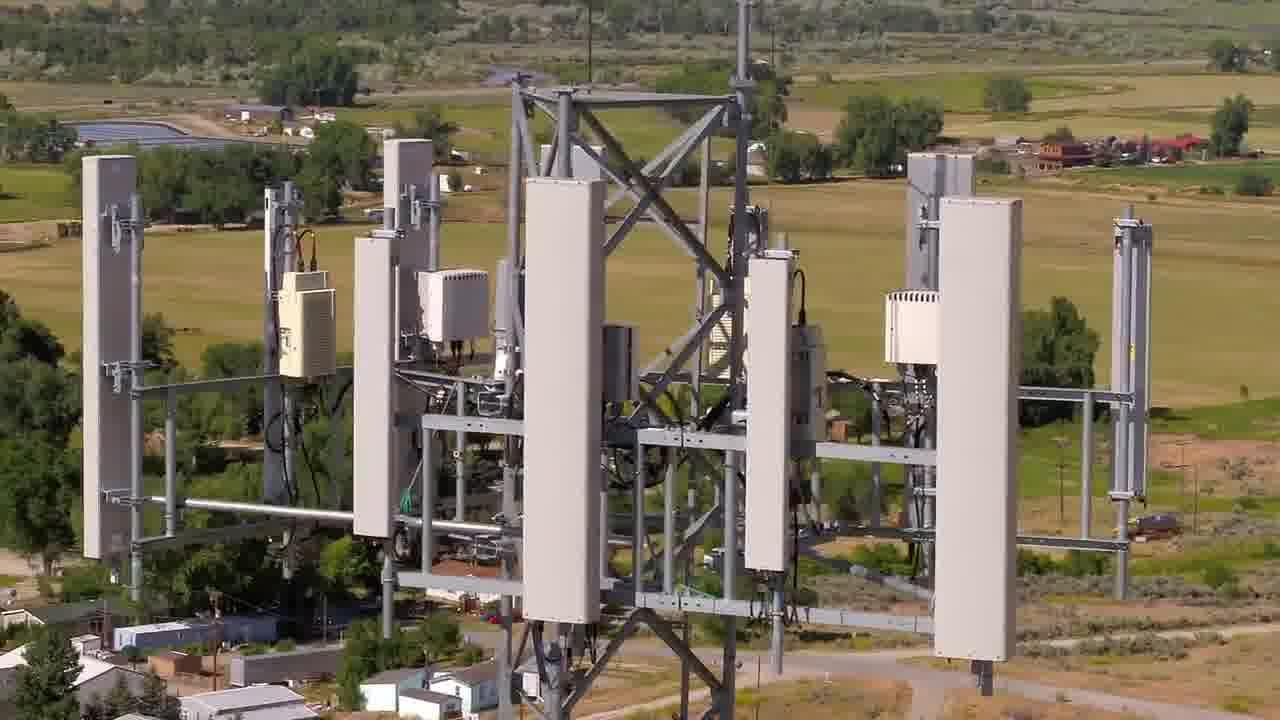antenna: (518, 172, 617, 638), (933, 188, 1016, 673), (78, 148, 164, 571), (734, 243, 810, 599), (887, 143, 984, 375), (347, 219, 411, 548), (1105, 196, 1159, 527), (375, 129, 444, 386)
